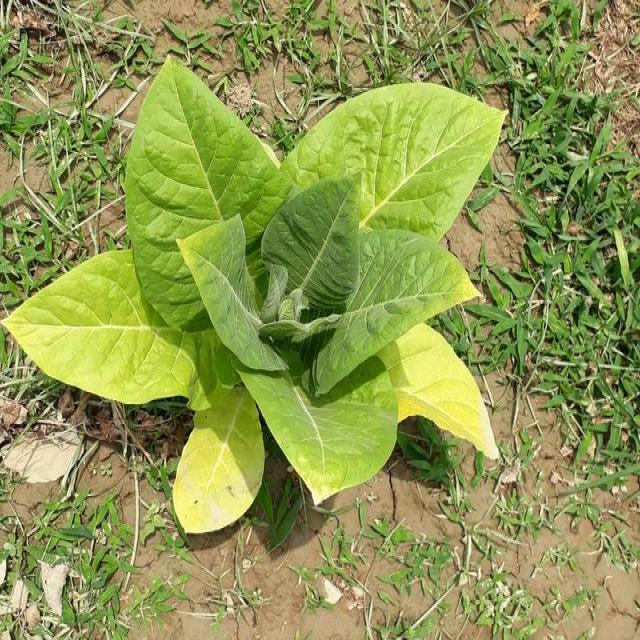crop: (0, 53, 513, 536)
